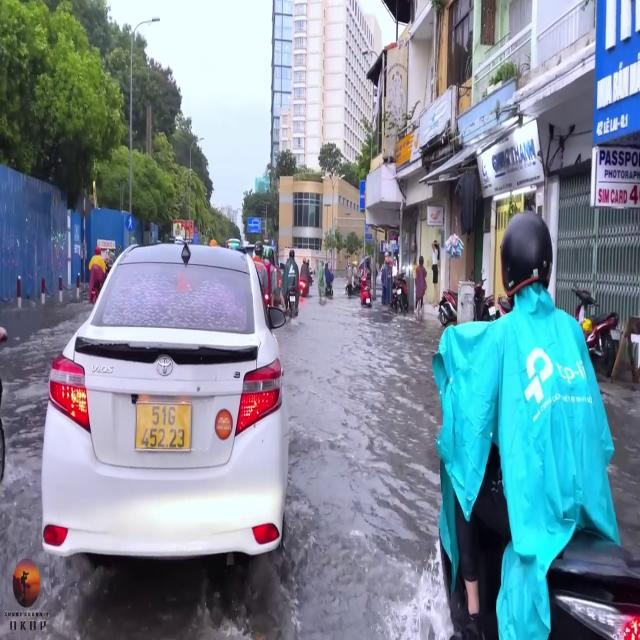bien_vang: (135, 402, 189, 447)
